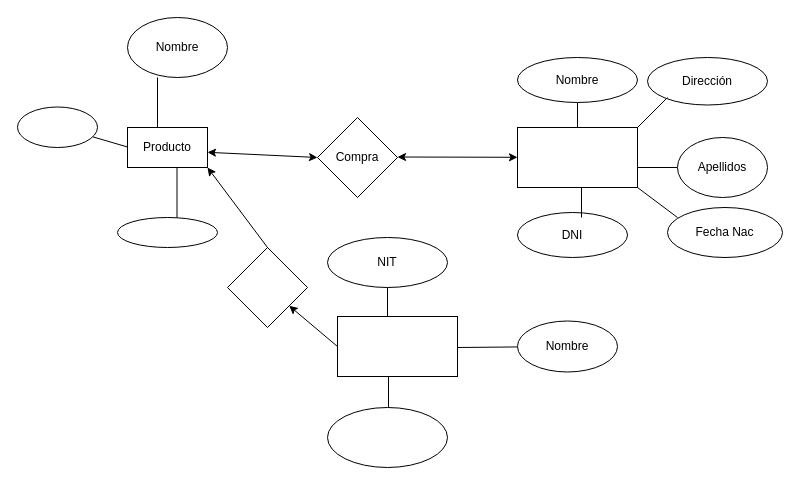
This 800x485 diagram has some shape labels left out. Each missing label, with the centre of its shape:
"Clientes" belongs at (x=577, y=157).
"Código" belongs at (x=57, y=127).
"Precio Unitario" belongs at (x=167, y=232).
"Proveedor" belongs at (x=397, y=346).
"suministra" belongs at (x=267, y=287).
